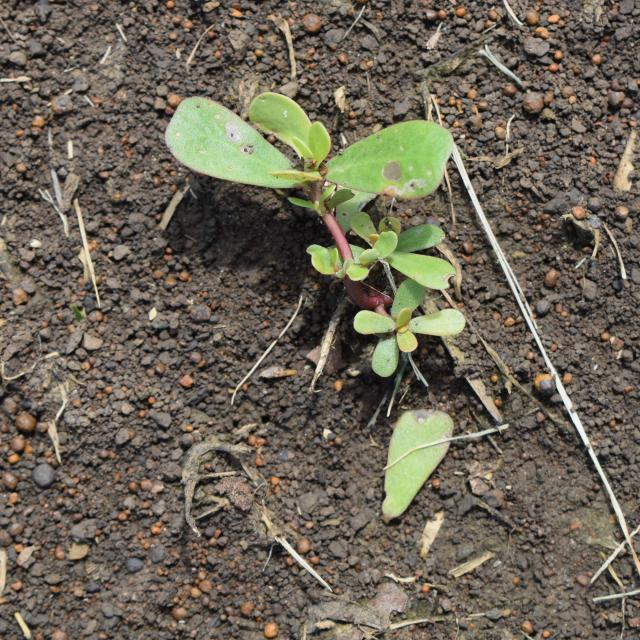Purslane: (165, 91, 466, 378)
